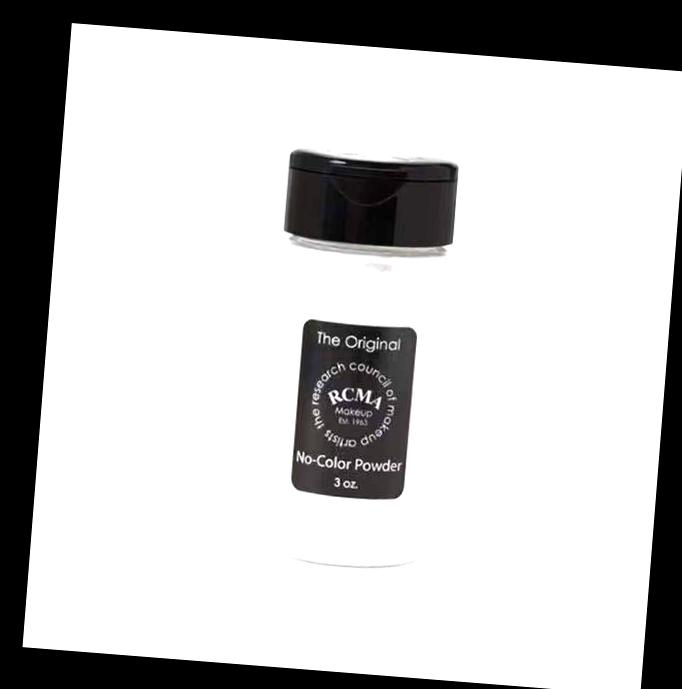cosmetic: (251, 146, 468, 568)
